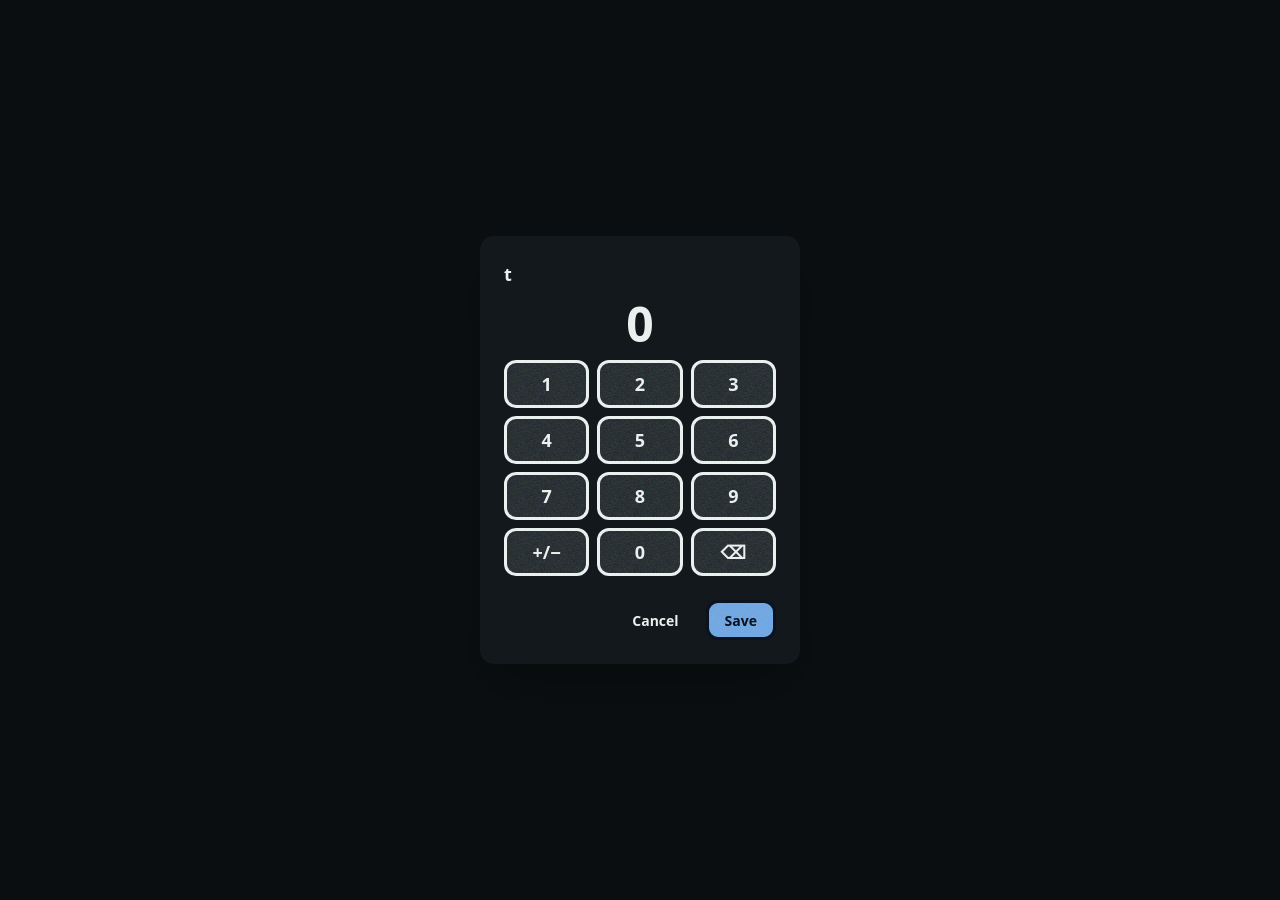
NumberPad validation › disables Save and shows the hint when the value is not allowed
Click the button "1" at [547, 384], box [504, 360, 589, 408]
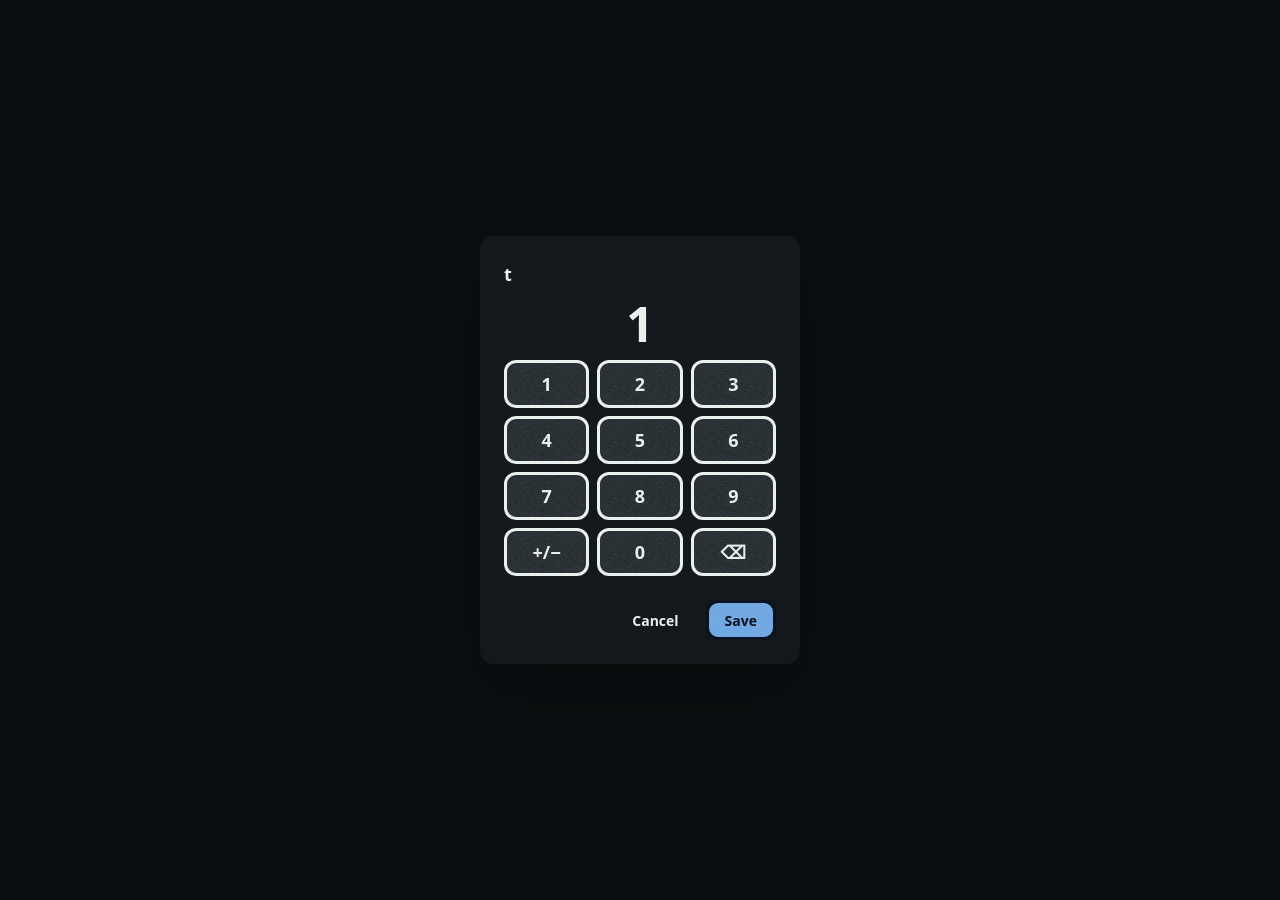
Click the button "9" at [733, 496], box [691, 472, 776, 520]
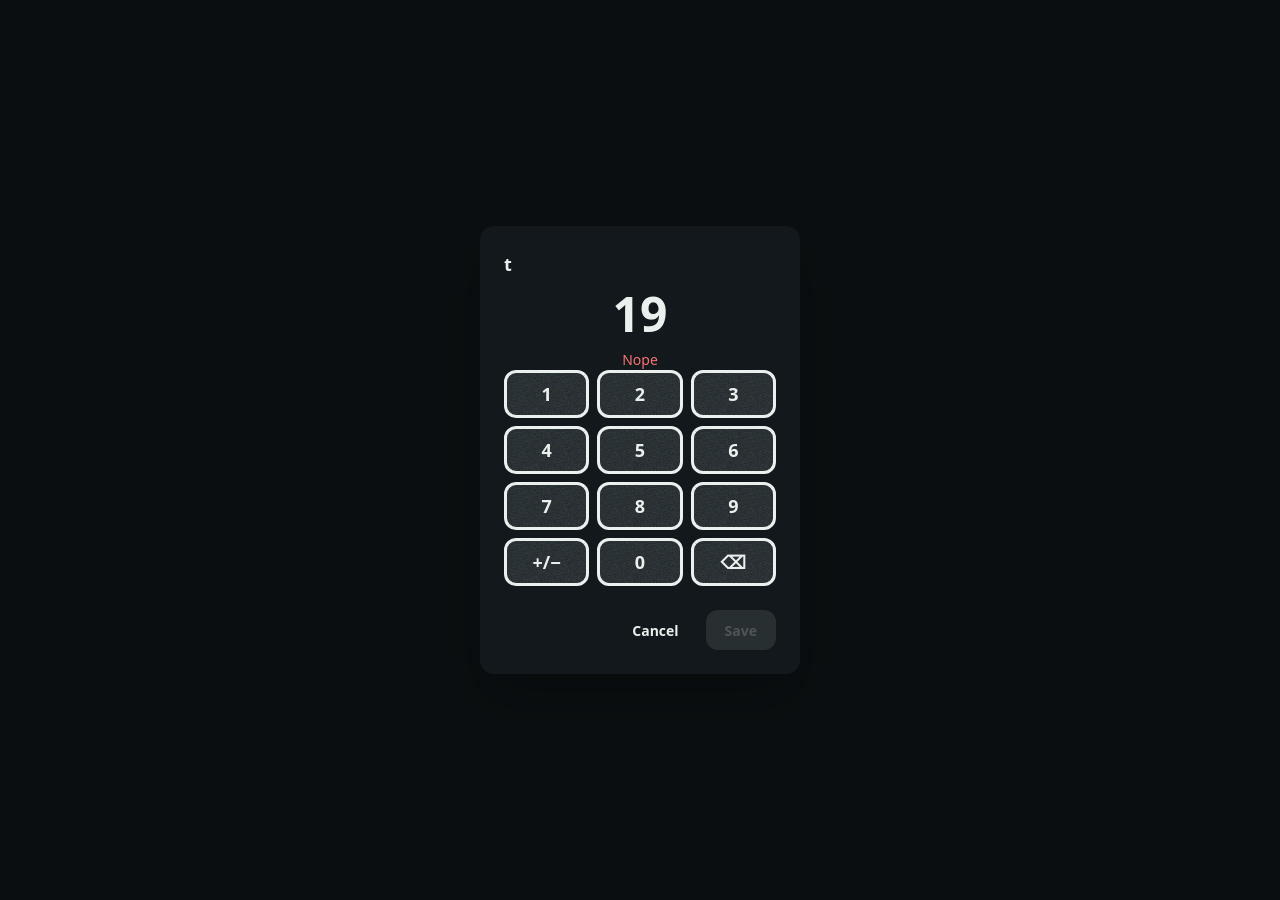
Now the message reads "Nope", box [622, 350, 658, 369]
Now the button "Save" is disabled, box [706, 610, 776, 650]
